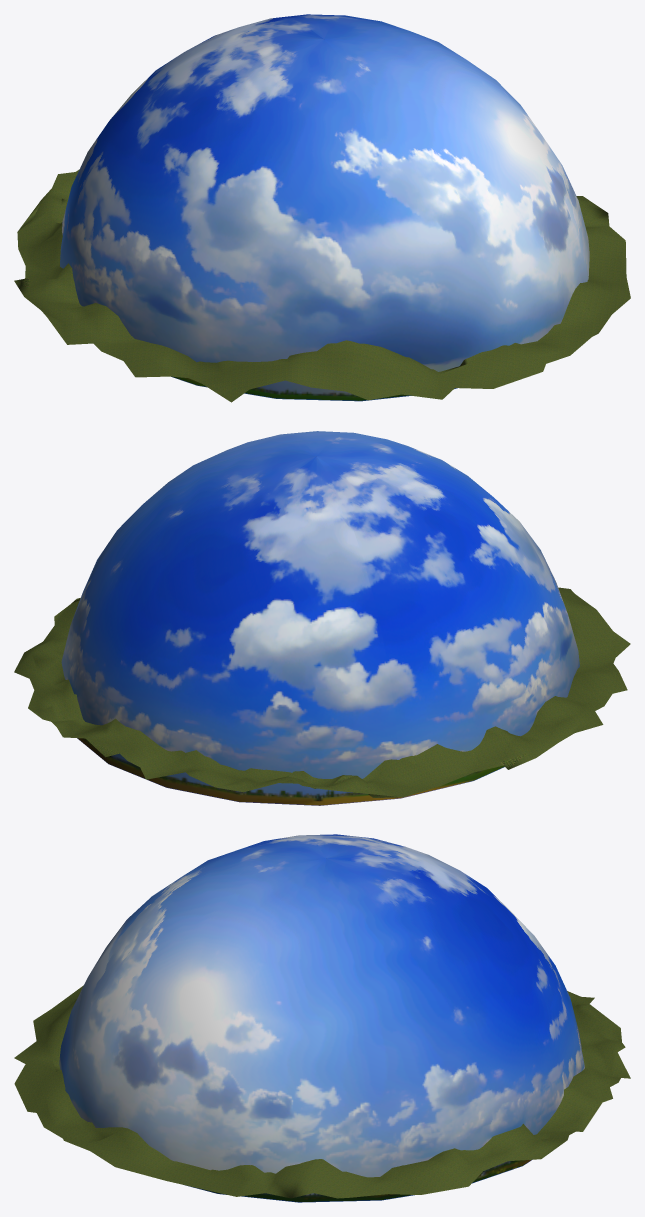
Rendered from Spiral Mountain.fbx.
The picture shows the model from 3 angles, top to bottom: view 1: azimuth 30°, elevation 25°; view 2: azimuth 150°, elevation 25°; view 3: azimuth 270°, elevation 25°; orthographic projection. The views are drawn at different scales.
Visible parts, largest first — view 1: Spiral Mountain; view 2: Spiral Mountain; view 3: Spiral Mountain.
Part boxes in pixels (box(x1,y1,x2,y2)): Spiral Mountain: box(14, 14, 630, 402); Spiral Mountain: box(14, 431, 630, 805); Spiral Mountain: box(14, 834, 630, 1202).
Size of the model in its own units: 80321 by 36773 by 82641.
37 materials, 34 textured.
